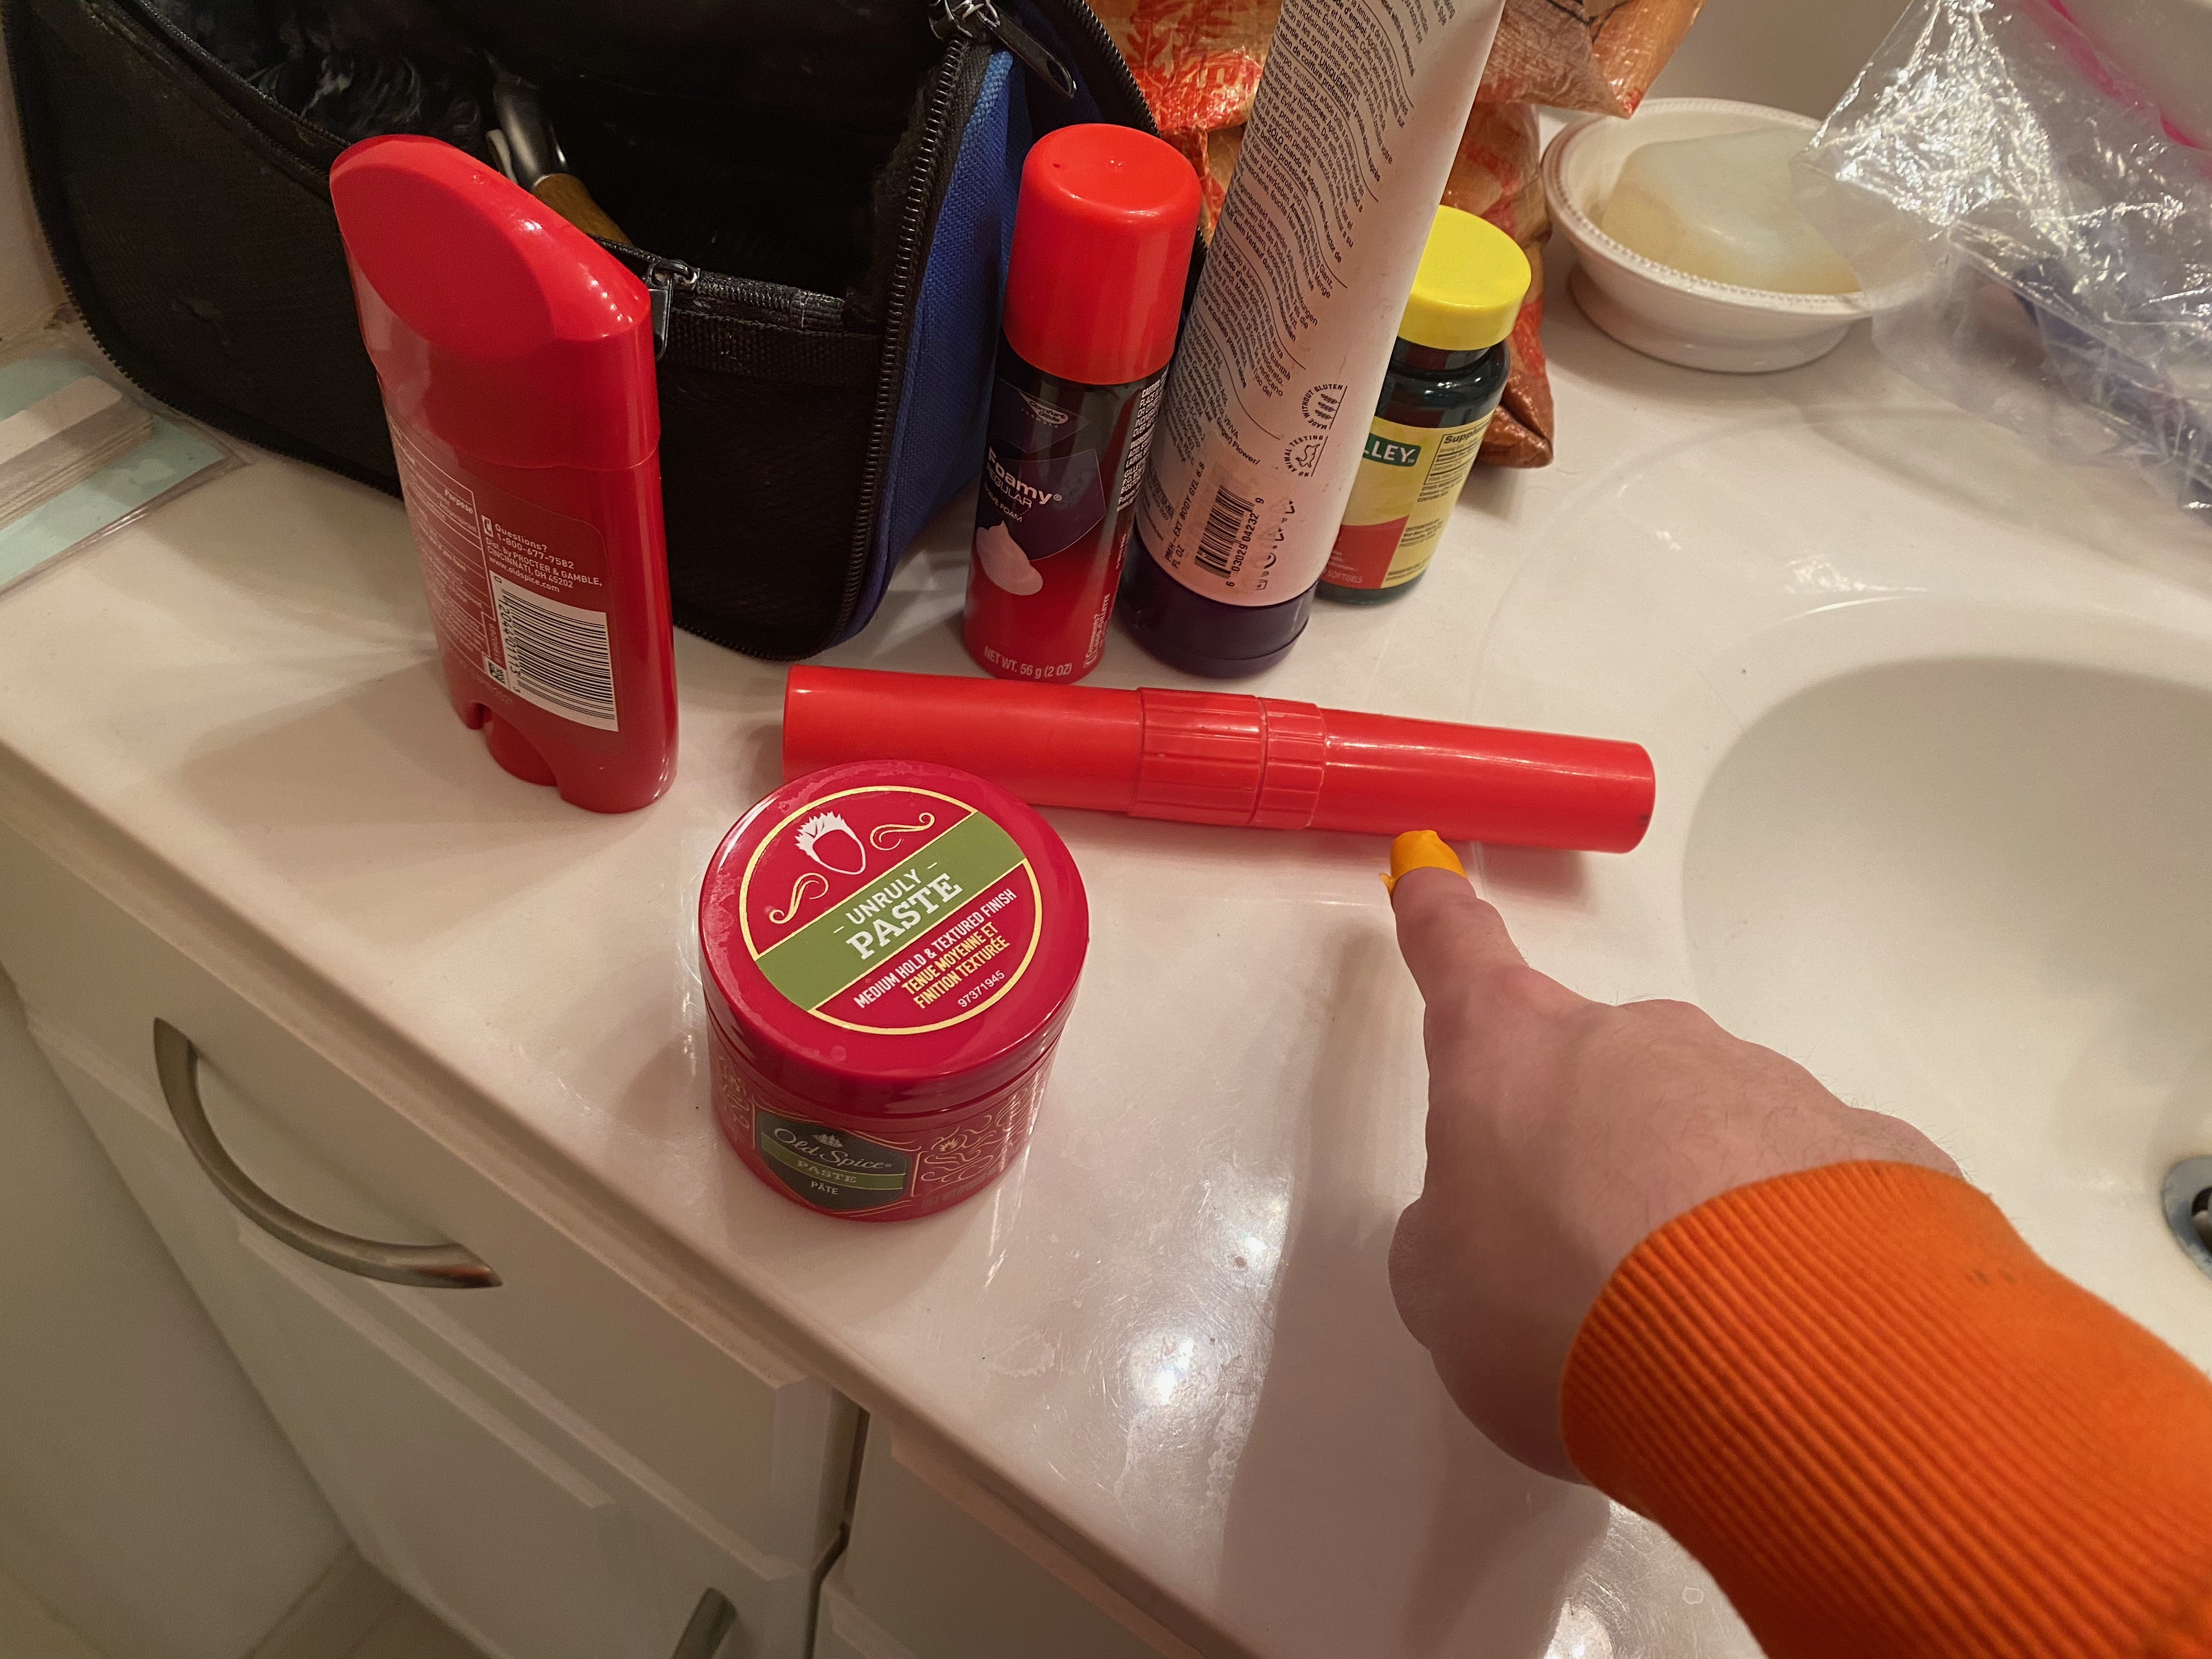fingertip: (1366, 819, 1496, 918)
